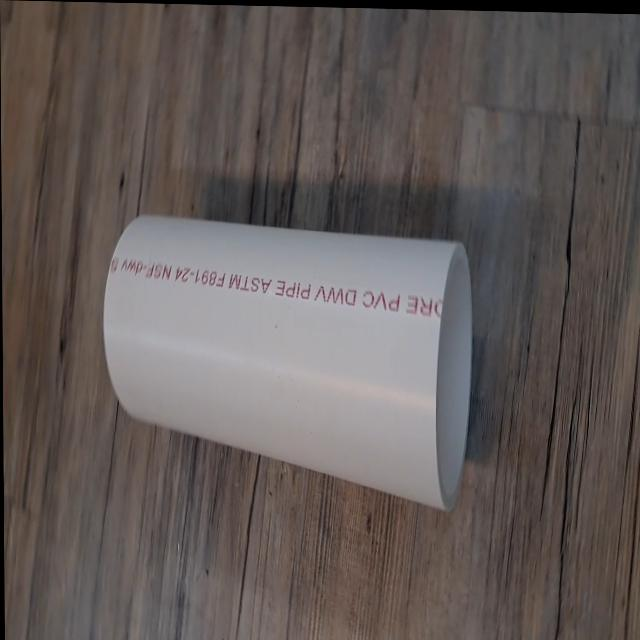CORAL: (98, 195, 478, 535)
